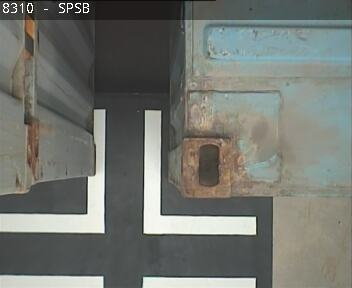groundmarker_1: (1, 110, 256, 235)
